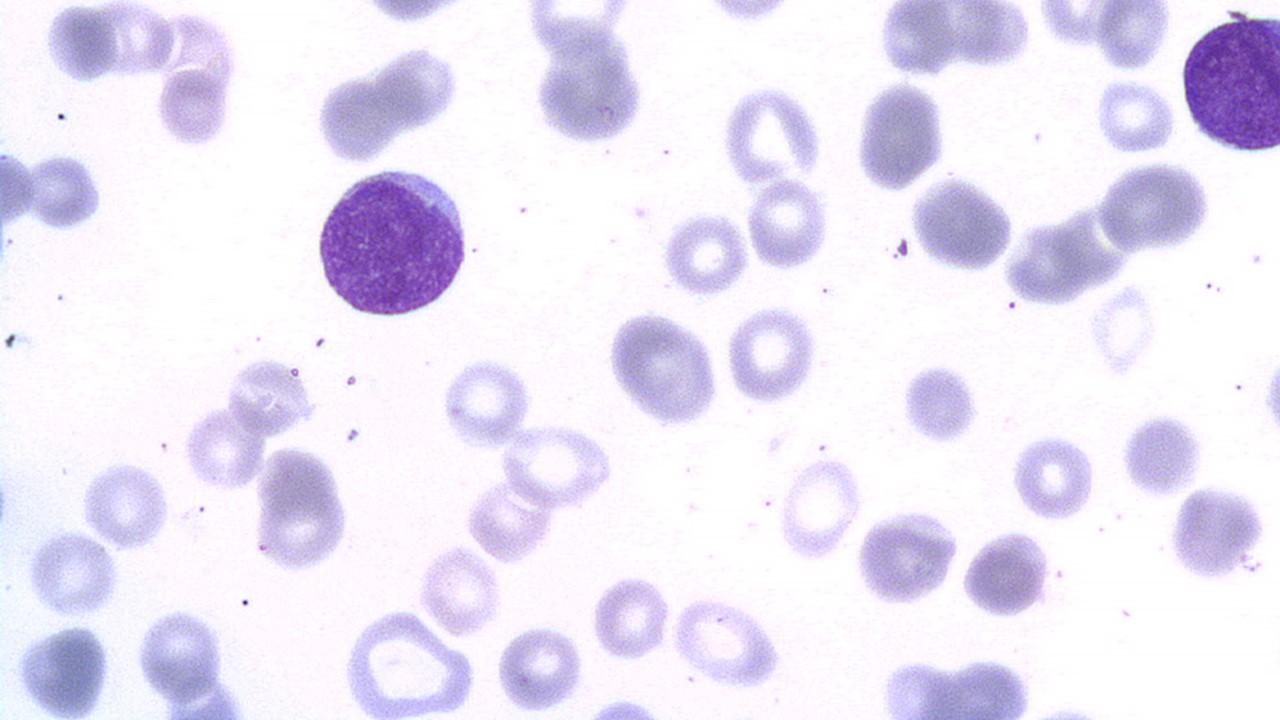Platelets: (437, 355, 534, 451), (310, 63, 394, 169), (493, 622, 589, 714), (1119, 405, 1207, 502), (1007, 432, 1099, 524), (152, 64, 239, 156), (898, 357, 981, 451), (1086, 281, 1164, 380), (590, 576, 674, 666), (1088, 76, 1176, 157), (42, 2, 118, 88), (875, 5, 960, 78), (348, 1, 479, 30), (699, 1, 796, 27), (1259, 338, 1279, 457), (584, 692, 661, 718), (0, 465, 20, 536), (762, 428, 792, 460), (1220, 6, 1256, 23), (893, 234, 912, 262), (0, 232, 17, 261), (344, 427, 359, 444)
RBC: (716, 78, 826, 189), (498, 418, 616, 514), (723, 301, 822, 408), (774, 452, 864, 564), (437, 351, 536, 452), (78, 456, 175, 552), (135, 605, 226, 705), (416, 541, 506, 640), (493, 620, 585, 716), (1008, 430, 1100, 524), (461, 474, 556, 565), (660, 206, 750, 300), (744, 176, 830, 272), (588, 569, 672, 666), (221, 354, 313, 440), (180, 402, 266, 494), (1091, 76, 1179, 156), (94, 0, 177, 83), (43, 4, 120, 88), (27, 148, 103, 233), (1093, 1, 1173, 74), (0, 143, 36, 233)
WBC: (0, 0, 597, 720), (308, 161, 476, 322), (303, 35, 474, 170), (519, 3, 664, 158), (603, 299, 727, 432), (336, 606, 482, 716), (1177, 7, 1280, 160), (146, 6, 244, 159), (250, 443, 355, 577), (667, 590, 790, 692), (720, 78, 830, 187), (850, 77, 952, 194), (850, 504, 962, 610), (908, 170, 1020, 275), (1098, 159, 1216, 258), (1166, 480, 1272, 588), (499, 420, 619, 513), (9, 618, 120, 718), (223, 343, 324, 445), (310, 60, 402, 170), (368, 40, 466, 143), (958, 524, 1057, 621), (132, 604, 228, 704), (22, 528, 125, 618), (79, 456, 174, 552), (1118, 408, 1210, 500), (914, 656, 1048, 716), (25, 147, 108, 234), (876, 2, 962, 78), (1093, 1, 1173, 73), (1255, 322, 1280, 469)
